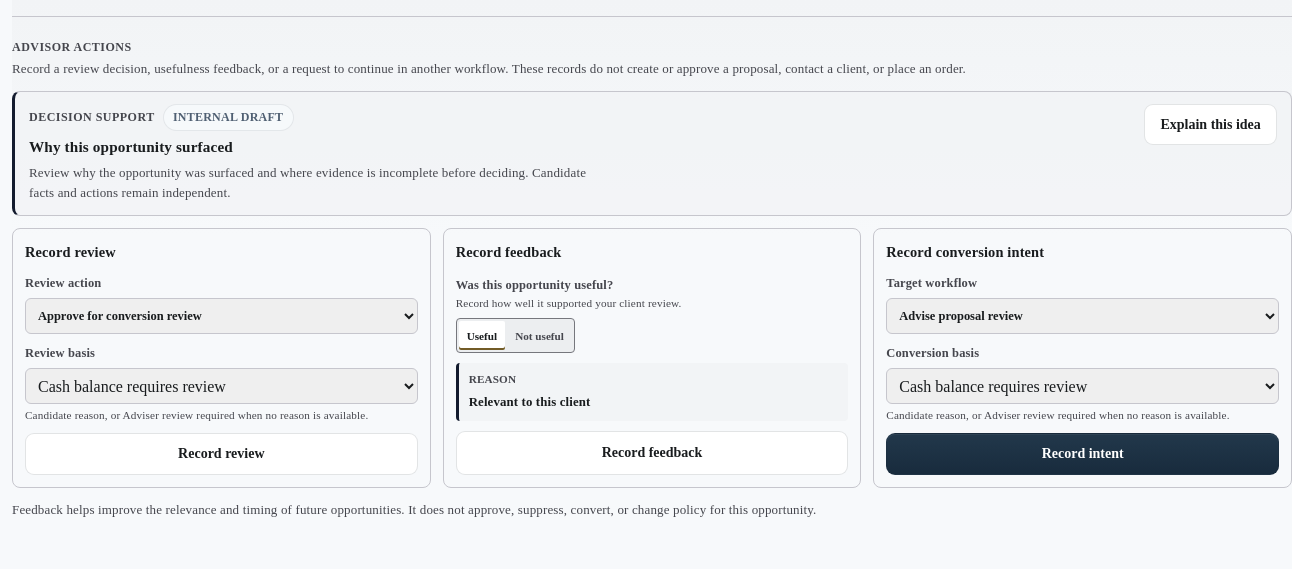
IdeaCandidateActionPanel › requires a reason for not-useful feedback and focuses the missing field
This screenshot has width=1292, height=569.
Click the radio button labelled "Not useful" at (540, 336), box [507,321,572,350]
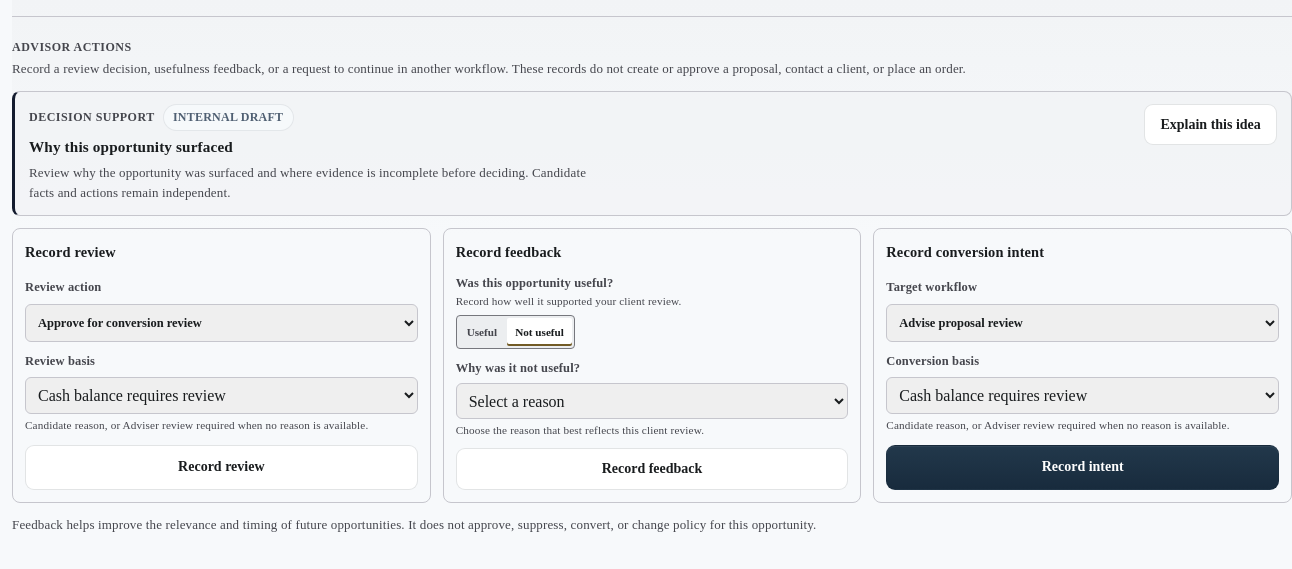
Click the button "Record feedback" at (652, 469), box [456,448,848,490]
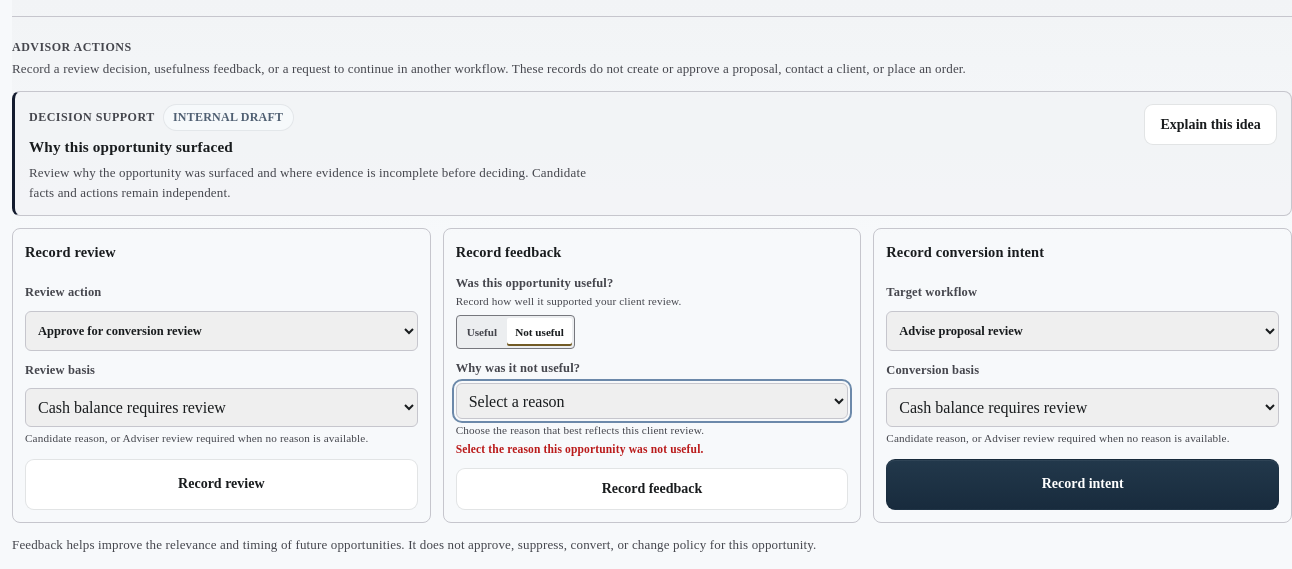
Check: the message reads "Select the reason this opportunity was not useful.", box [456,443,704,455]
